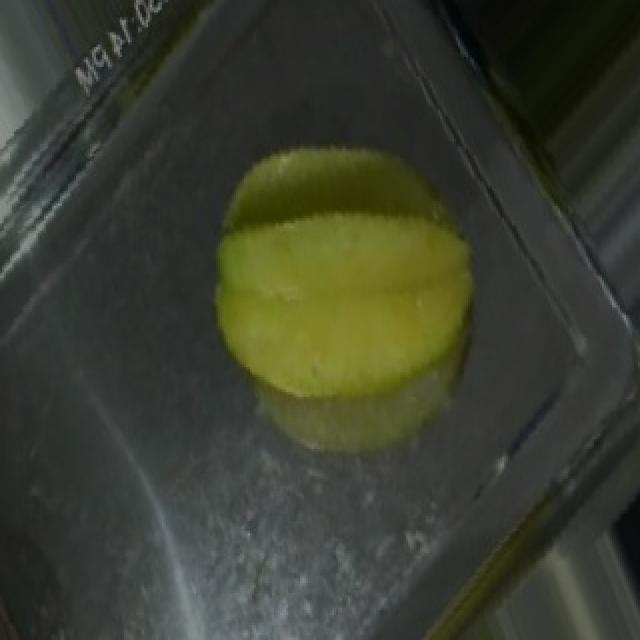fruit: (176, 79, 542, 484)
